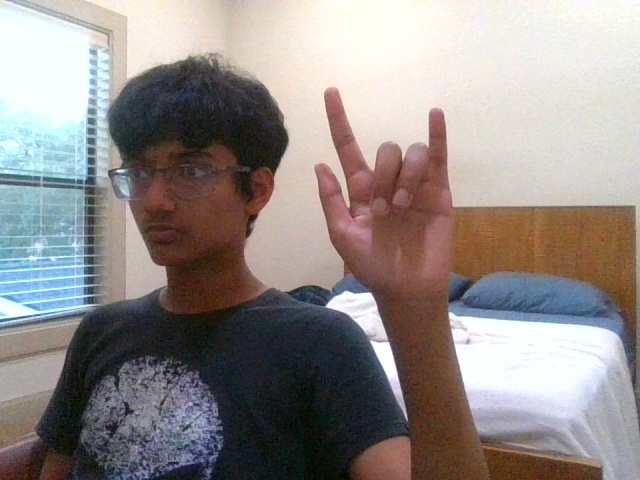ly: (315, 88, 453, 288)
